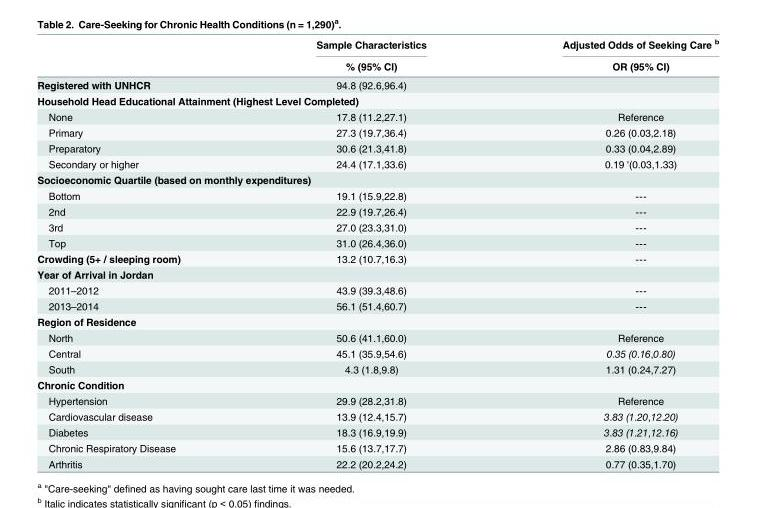table: (36, 36, 718, 469)
table column: (247, 36, 493, 469), (493, 36, 718, 469), (36, 36, 247, 469)
table column header: (36, 36, 718, 75)
table projected row header: (36, 92, 718, 108), (36, 171, 718, 187), (36, 266, 718, 282), (36, 313, 718, 329), (36, 376, 718, 392)
table row: (36, 54, 718, 75), (36, 36, 718, 54), (36, 75, 718, 92), (36, 92, 718, 108), (36, 108, 718, 124), (36, 124, 718, 140), (36, 155, 718, 171), (36, 171, 718, 187), (36, 187, 718, 203), (36, 218, 718, 234), (36, 234, 718, 250), (36, 250, 718, 266), (36, 266, 718, 282), (36, 297, 718, 313), (36, 313, 718, 329), (36, 329, 718, 345), (36, 345, 718, 361), (36, 376, 718, 392), (36, 392, 718, 408), (36, 408, 718, 424), (36, 424, 718, 440), (36, 140, 718, 155), (36, 203, 718, 218), (36, 282, 718, 297), (36, 361, 718, 376), (36, 440, 718, 455), (36, 455, 718, 469)
table spanning cell: (247, 36, 493, 75), (493, 36, 718, 75)
